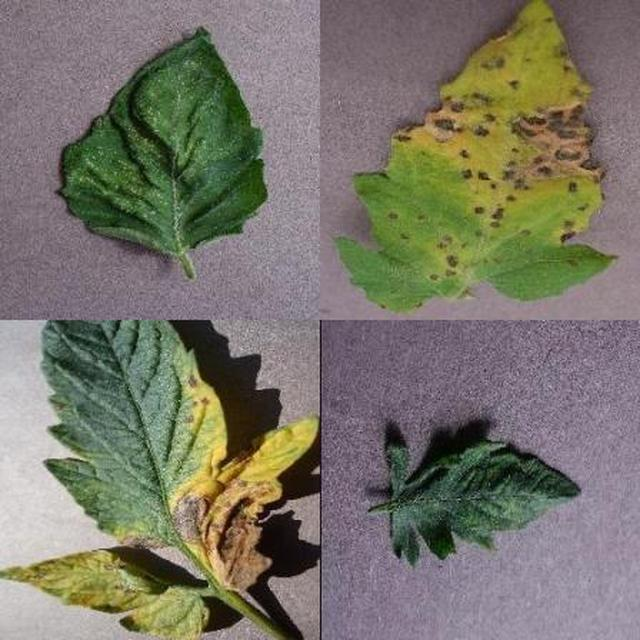Spider Mites Leaf: (232, 190, 640, 640)
